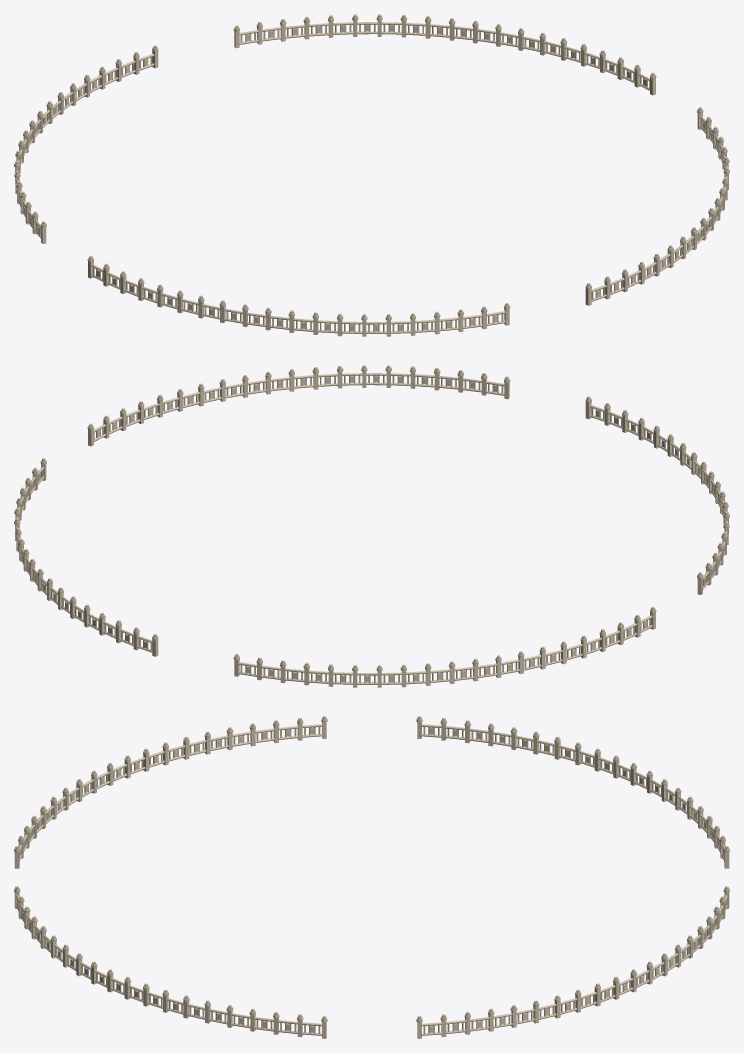
Rendered from SM_12_Rail_2.fbx.
3 renders of one model, top to bottom at view 1: azimuth 30°, elevation 25°; view 2: azimuth 150°, elevation 25°; view 3: azimuth 270°, elevation 25°, orthographic.
Parts seen in each view (by area): view 1: Rail_2; view 2: Rail_2; view 3: Rail_2.
Boxes of the visible parts, x1=… form: Rail_2: x1=14, y1=14, x2=729, y2=336; Rail_2: x1=14, y1=365, x2=729, y2=687; Rail_2: x1=14, y1=716, x2=729, y2=1038.
Bounding box in the file's own units: 4740 × 4740 × 155.
